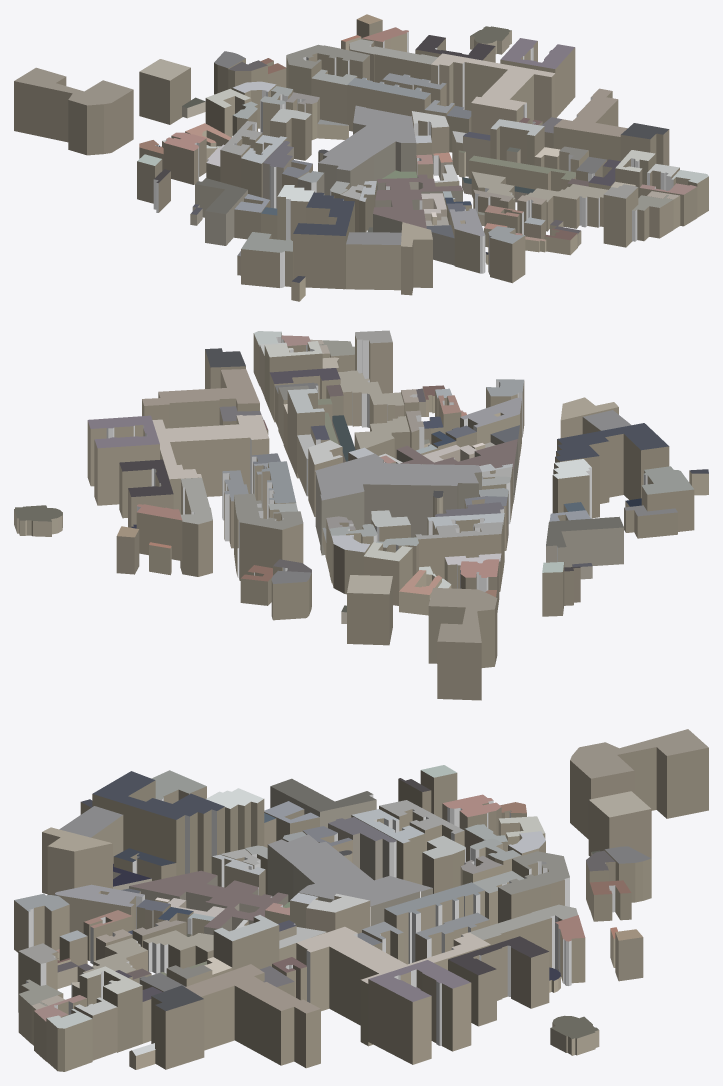
3 views of the same model, one above another, from view 1: azimuth 30°, elevation 25°; view 2: azimuth 150°, elevation 25°; view 3: azimuth 270°, elevation 25° (orthographic). The views are drawn at different scales.
Parts seen in each view (by area): view 1: tuile; view 2: tuile; view 3: tuile.
Part boxes in pixels (<box>): tuile: <box>14,14,708,301</box>; tuile: <box>14,330,708,700</box>; tuile: <box>14,729,708,1071</box>.
Bounding box in the file's own units: 271 × 40.32 × 287.
